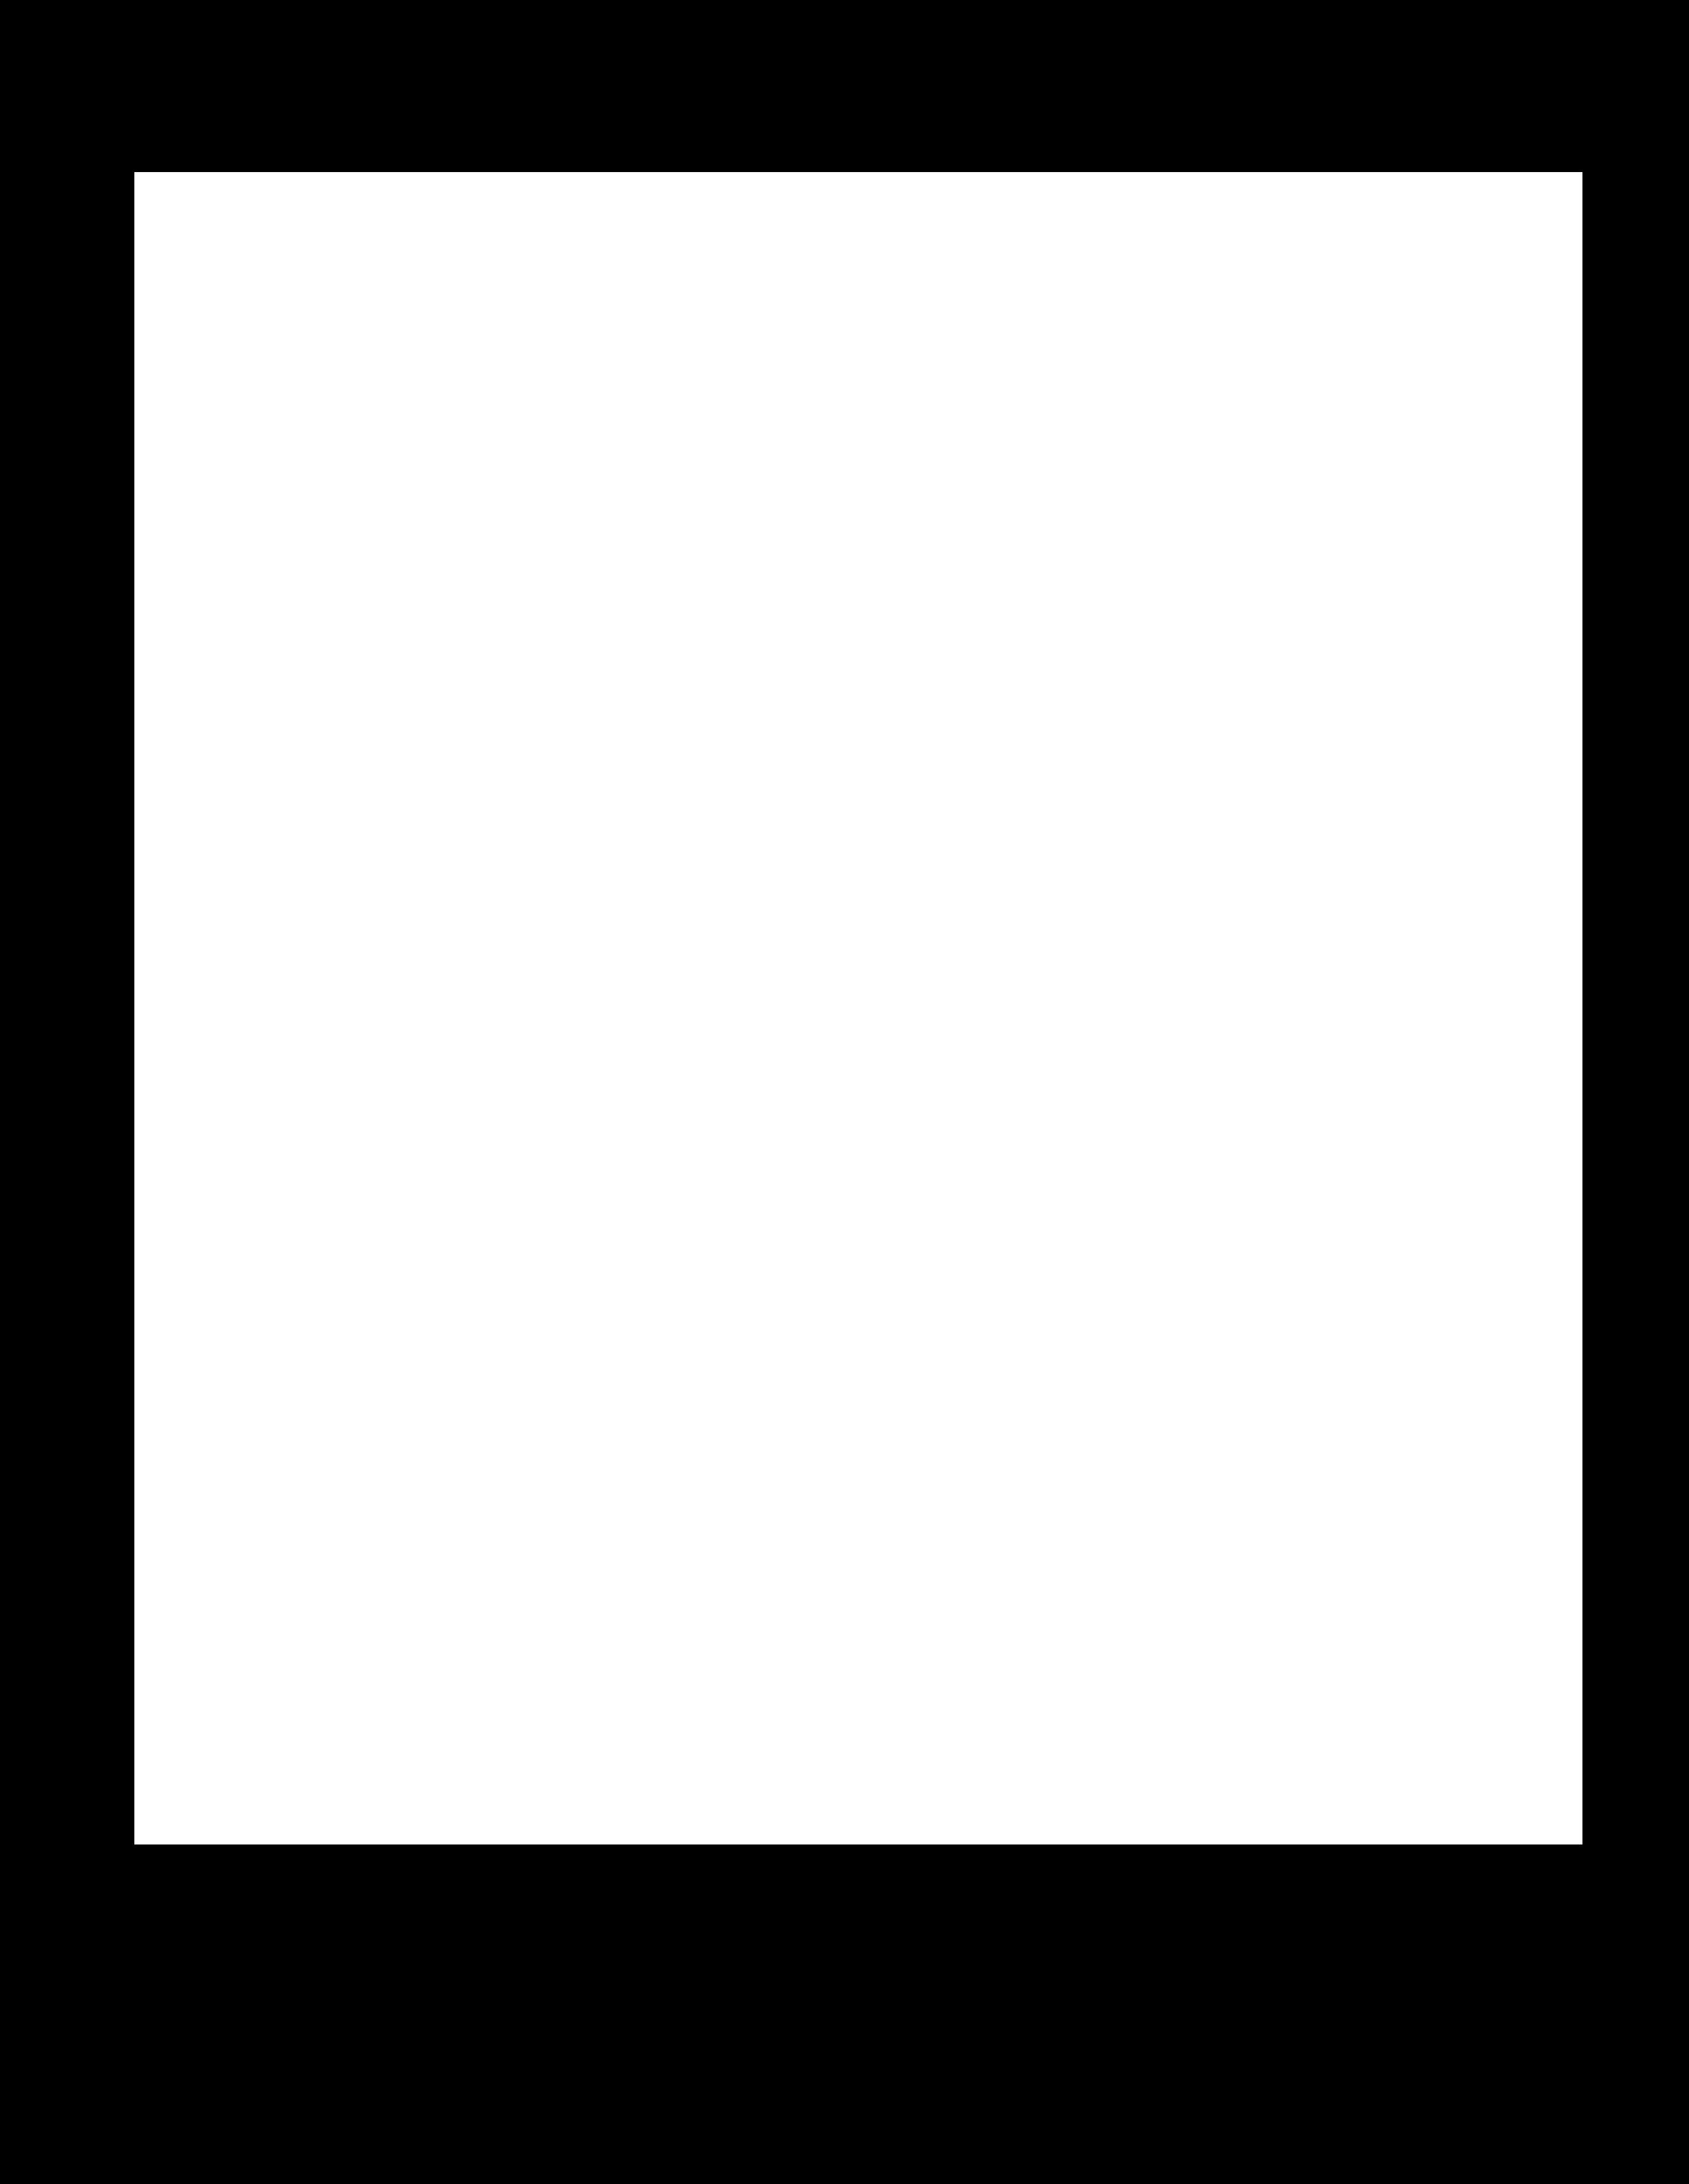table: (135, 172, 1583, 1844)
